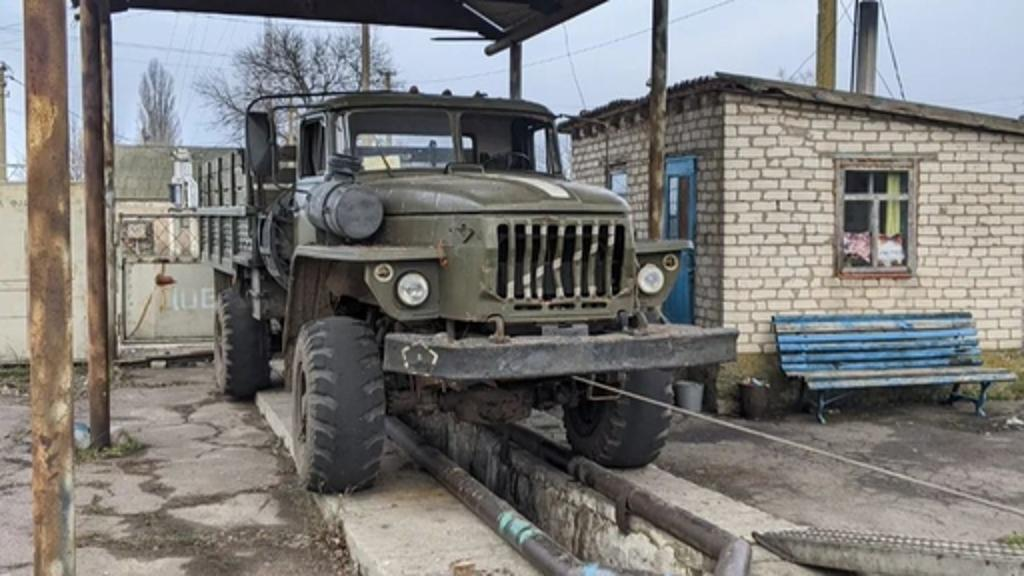TRUCK: (204, 80, 742, 498)
